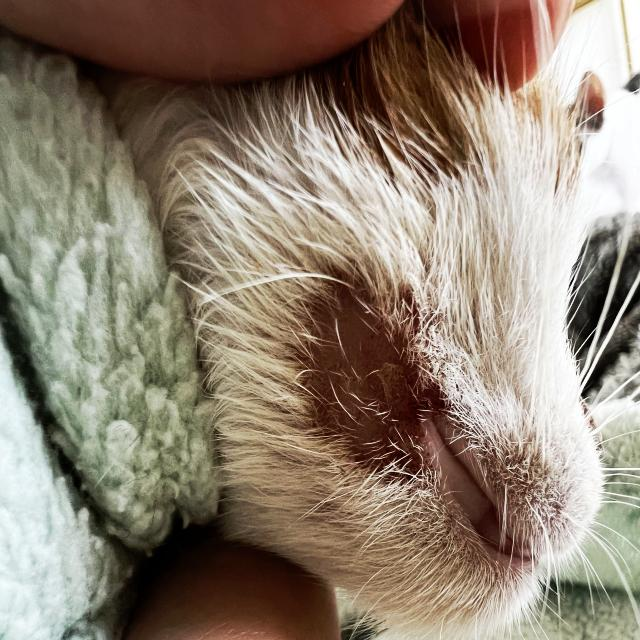ringworm: (301, 283, 434, 478)
